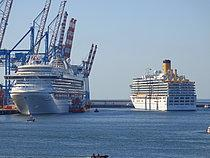Ship: (5, 54, 98, 122), (127, 67, 204, 117)
